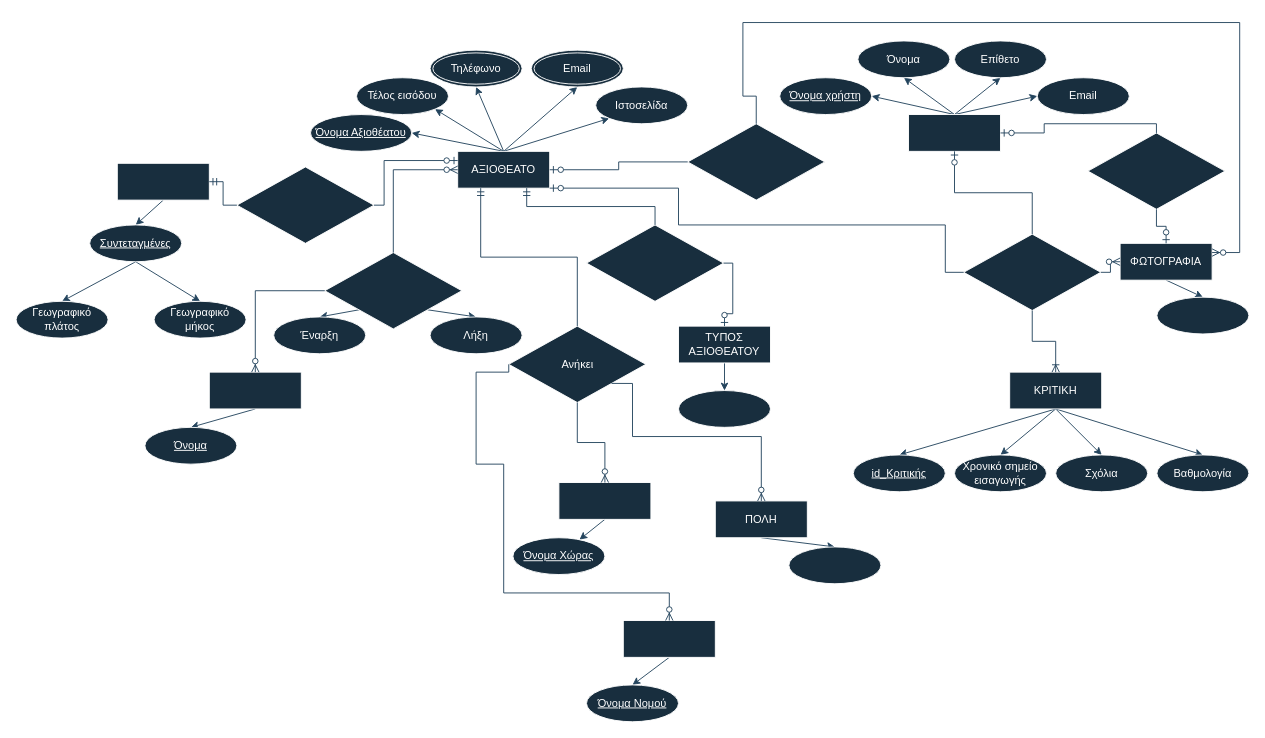
Image size: 1265x738. Some labels were removed from this diagram. The centre of each missing label's shape, as x and y in pixels:
"Url" goes at pixel 1202 315.
"Έχει" goes at pixel 305 204.
"Έχει φωτογραφία" goes at pixel 756 161.
"Έχει φωτογραφία προφίλ" goes at pixel 1156 170.
"Αποτελείται" goes at pixel 1032 271.
"Είναι τύπου" goes at pixel 655 262.
"ΗΜΕΡΑ" goes at pixel 254 390.
"Λειτουργεί" goes at pixel 393 290.
"ΝΟΜΟΣ" goes at pixel 668 638.
"ΧΑΡΤΗΣ" goes at pixel 162 181.
"ΧΡΗΣΤΗΣ" goes at pixel 954 132.
"ΧΩΡΑ" goes at pixel 604 500.
"Όνομα Πόλης" goes at pixel 834 565.
"Όνομα Τύπου" goes at pixel 724 408.
